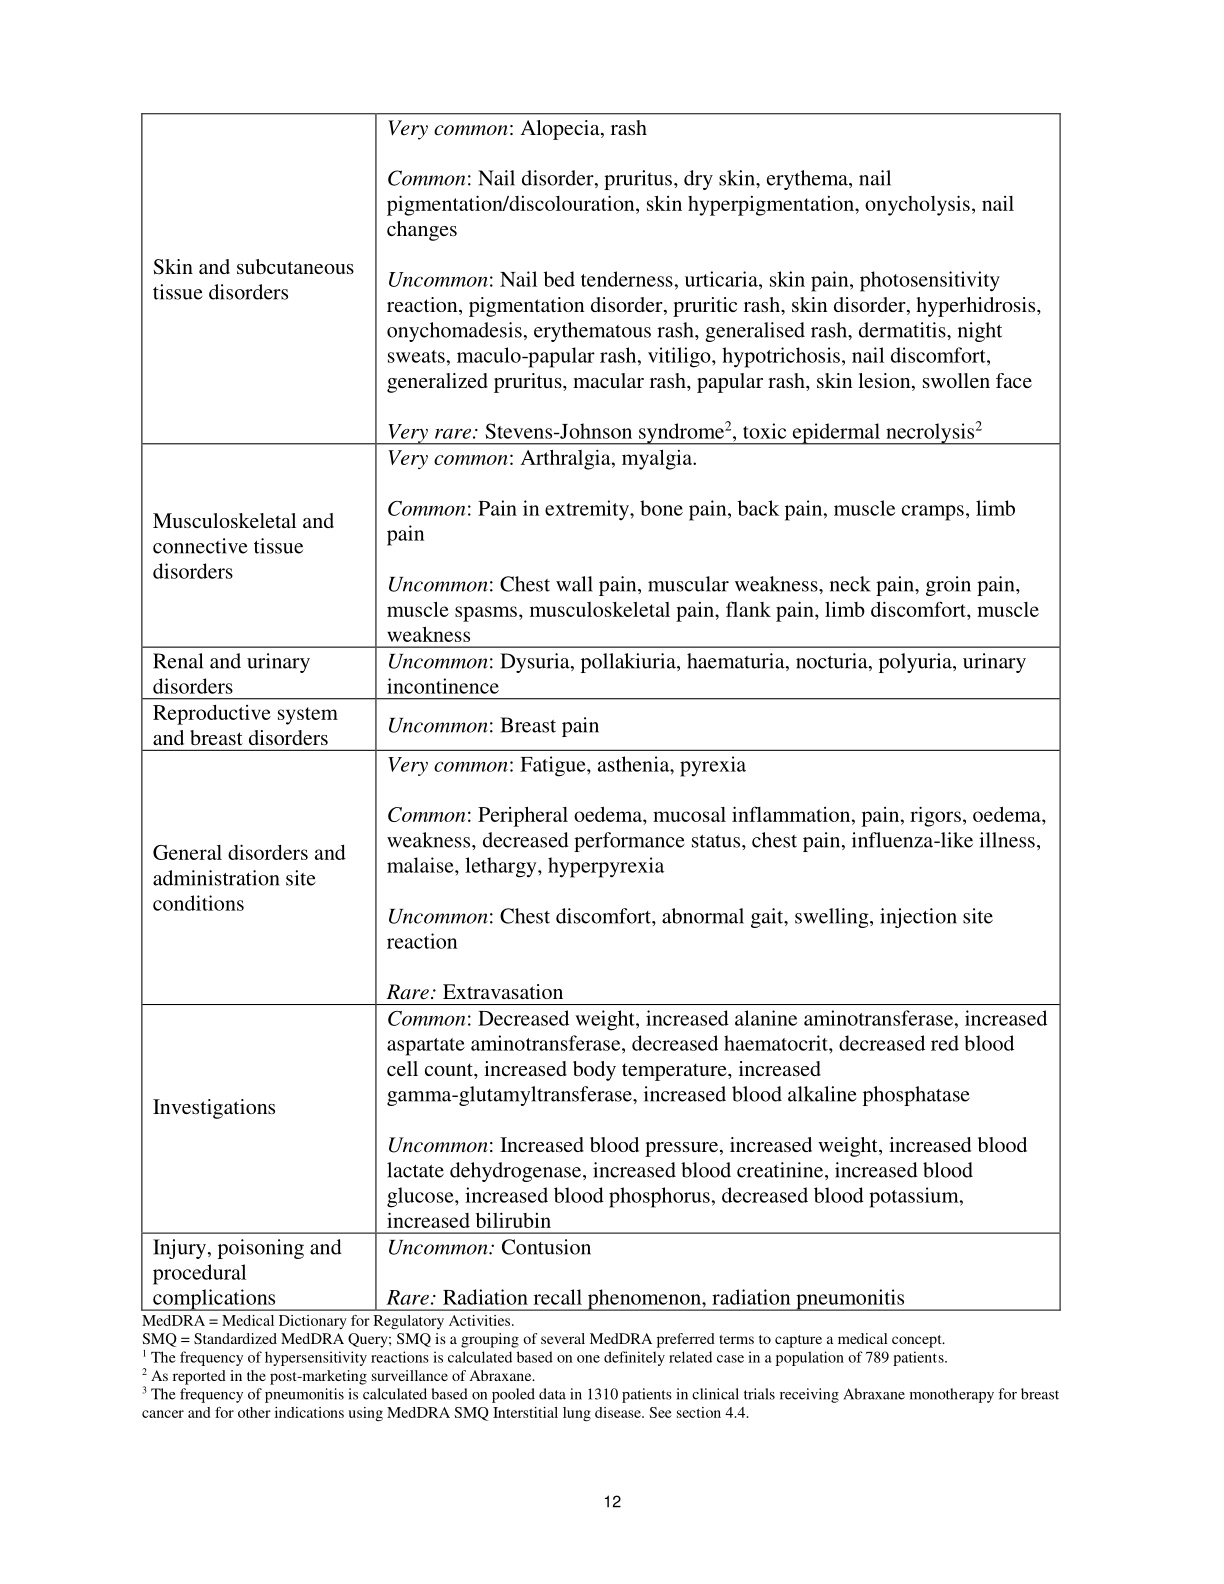full_lined: (134, 104, 1066, 1317)
